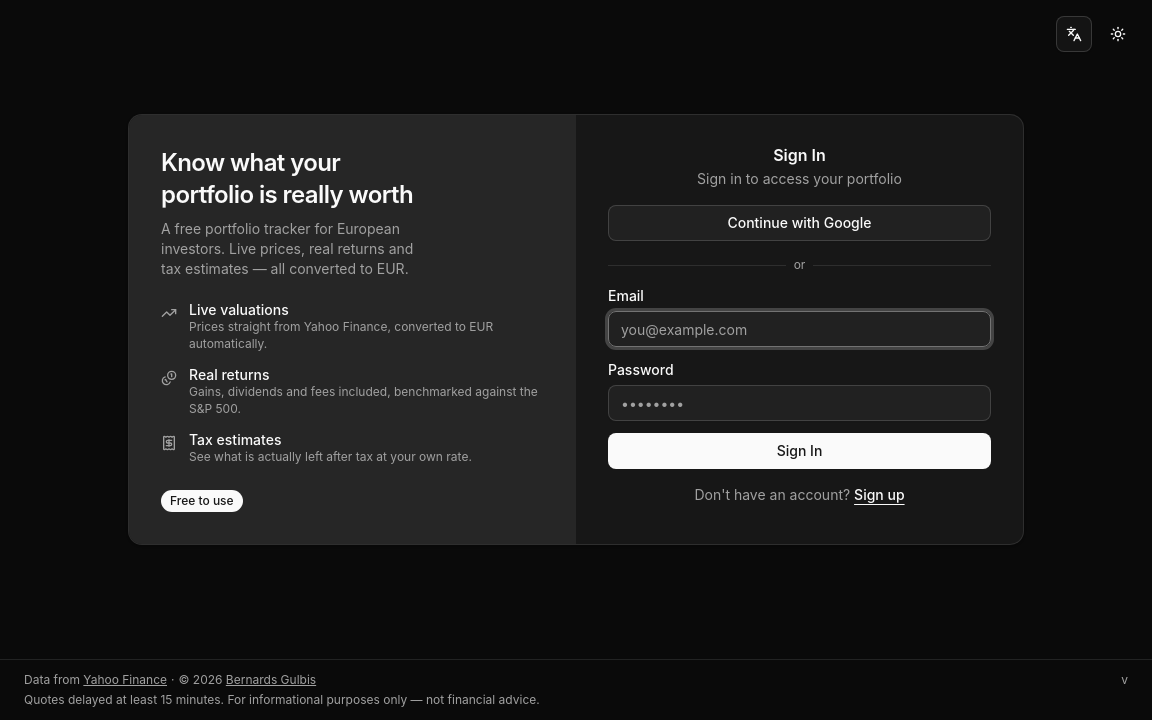
LoginPage › shows validation error for invalid email format
This screenshot has width=1152, height=720.
Type "notanemail" into the field labelled "Email" at x=800, y=329, box [608,311,991,347]
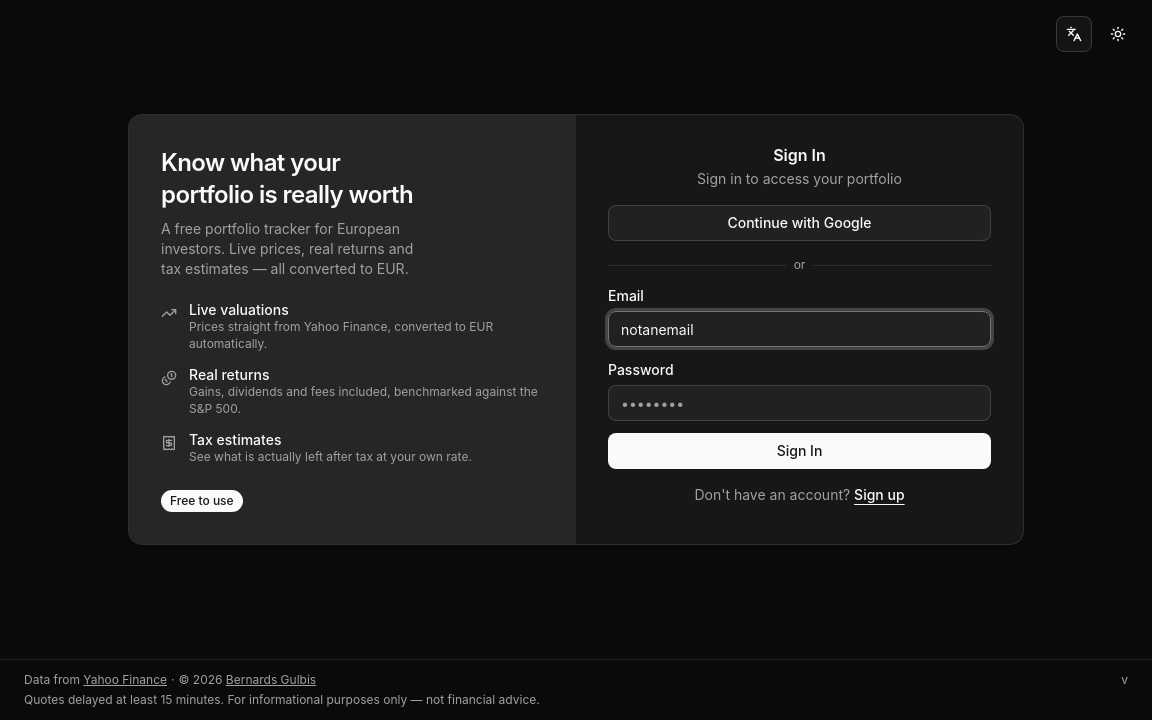
Click the button "Sign In" at x=800, y=451, box [608,433,991,469]
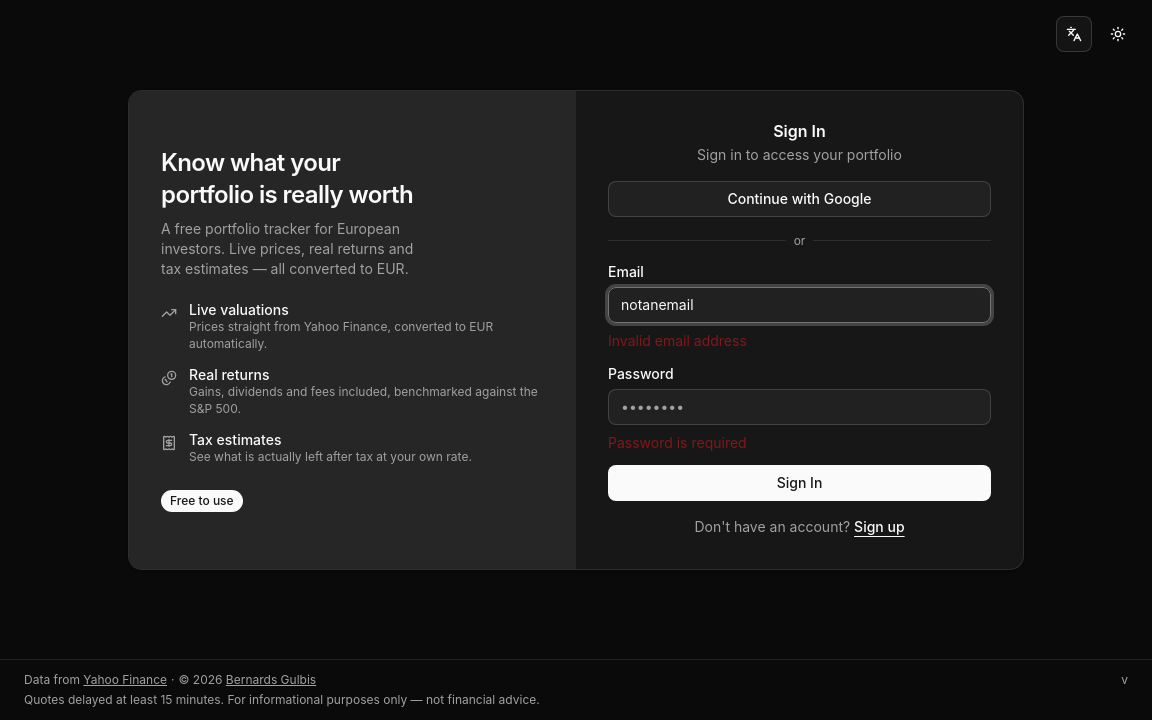
Check: the text "Invalid email address" is shown, box [608,332,747,348]
